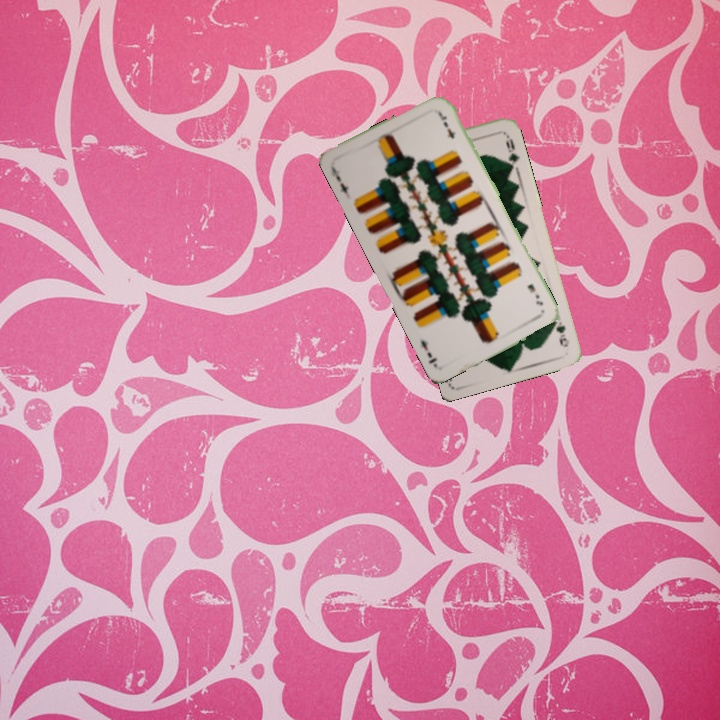E7: (523, 280, 546, 308), (331, 171, 351, 197)
G9: (549, 316, 572, 350)
